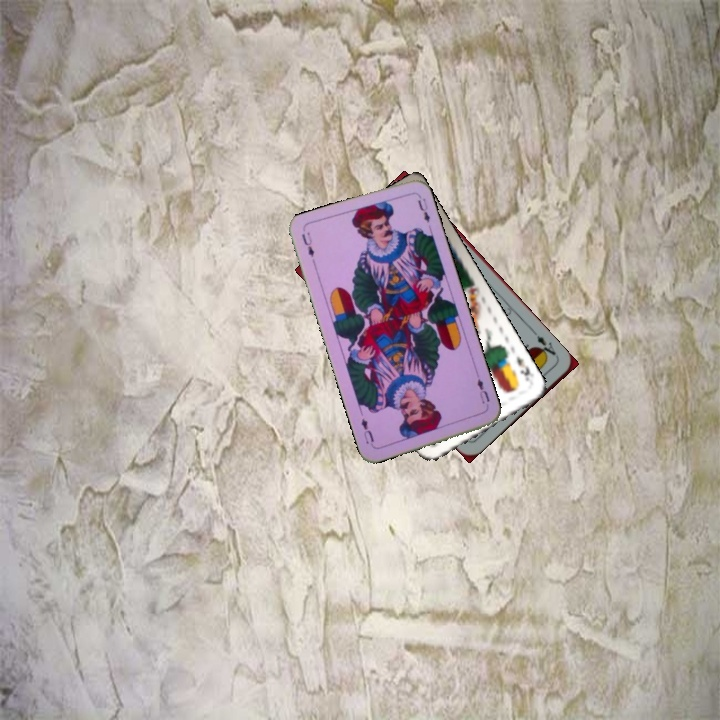EA: (530, 328, 561, 361)
EK: (512, 352, 533, 384)
EU: (473, 374, 492, 406), (298, 228, 317, 259)
